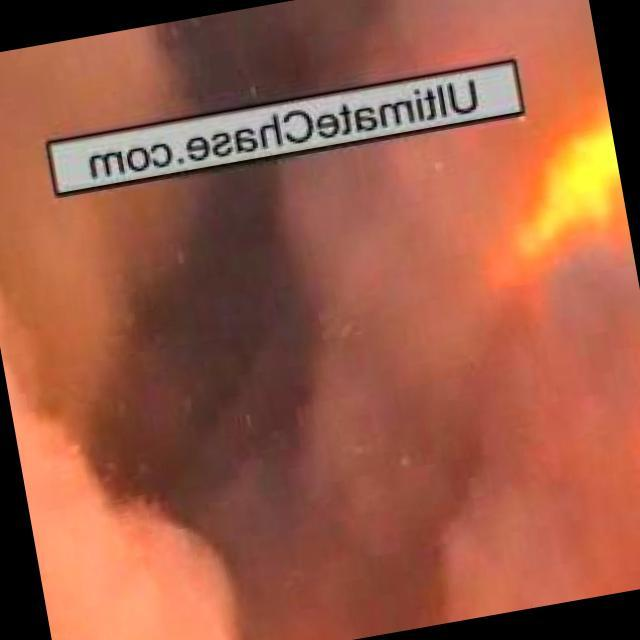Fire: (449, 91, 638, 302)
